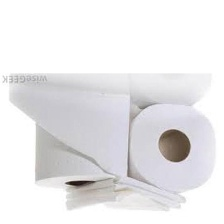tissue: (4, 75, 136, 194), (122, 99, 222, 199), (61, 171, 191, 221)
